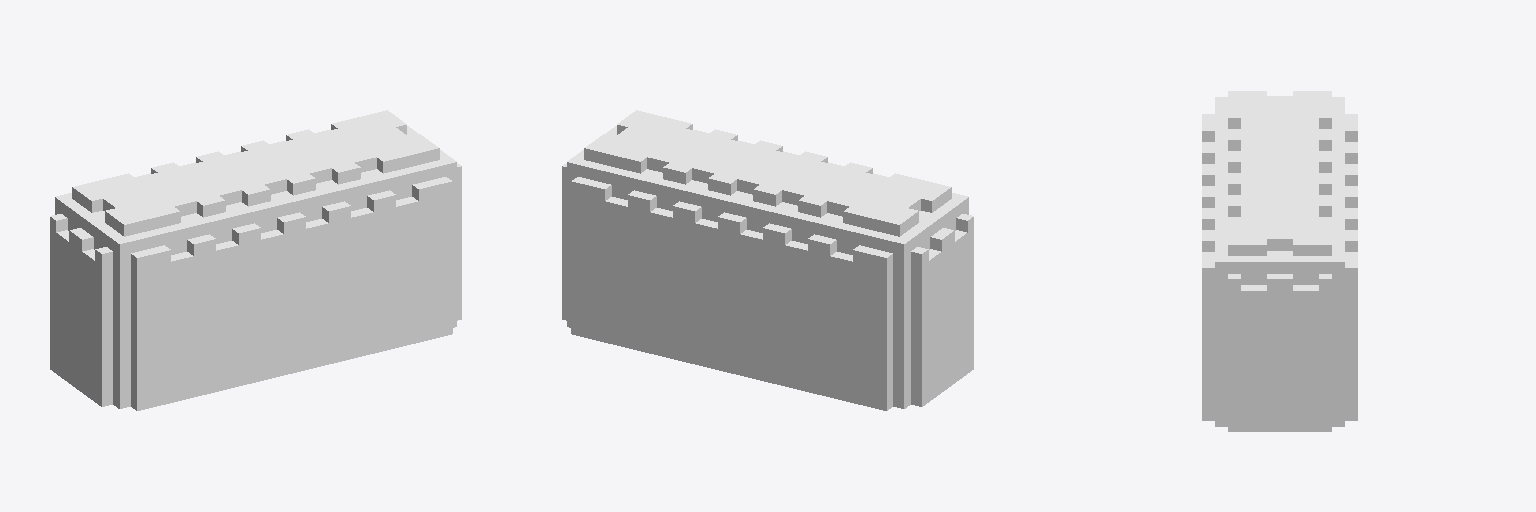
File: door-1-door.obj
3 renders of one model, left to right at view 1: azimuth 30°, elevation 25°; view 2: azimuth 150°, elevation 25°; view 3: azimuth 270°, elevation 25°, orthographic.
Visible parts, largest first — view 1: door; view 2: door; view 3: door.
Part boxes in pixels (x1,y1,x2,y2): door: (50,110,461,410); door: (562,110,973,410); door: (1202,91,1357,431).
Size of the model in its own units: 3.2 by 1.5 by 1.2.